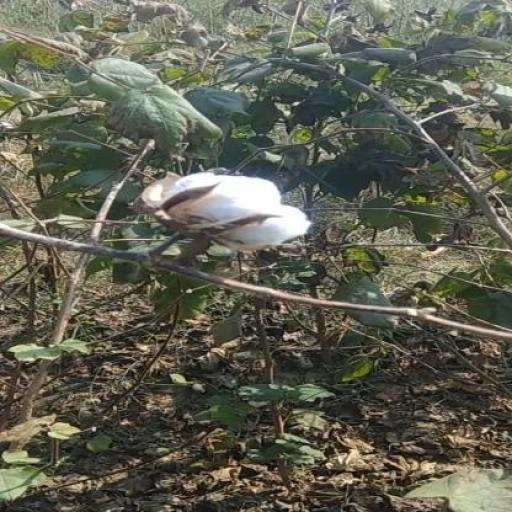cotton_ready: (142, 155, 310, 262)
